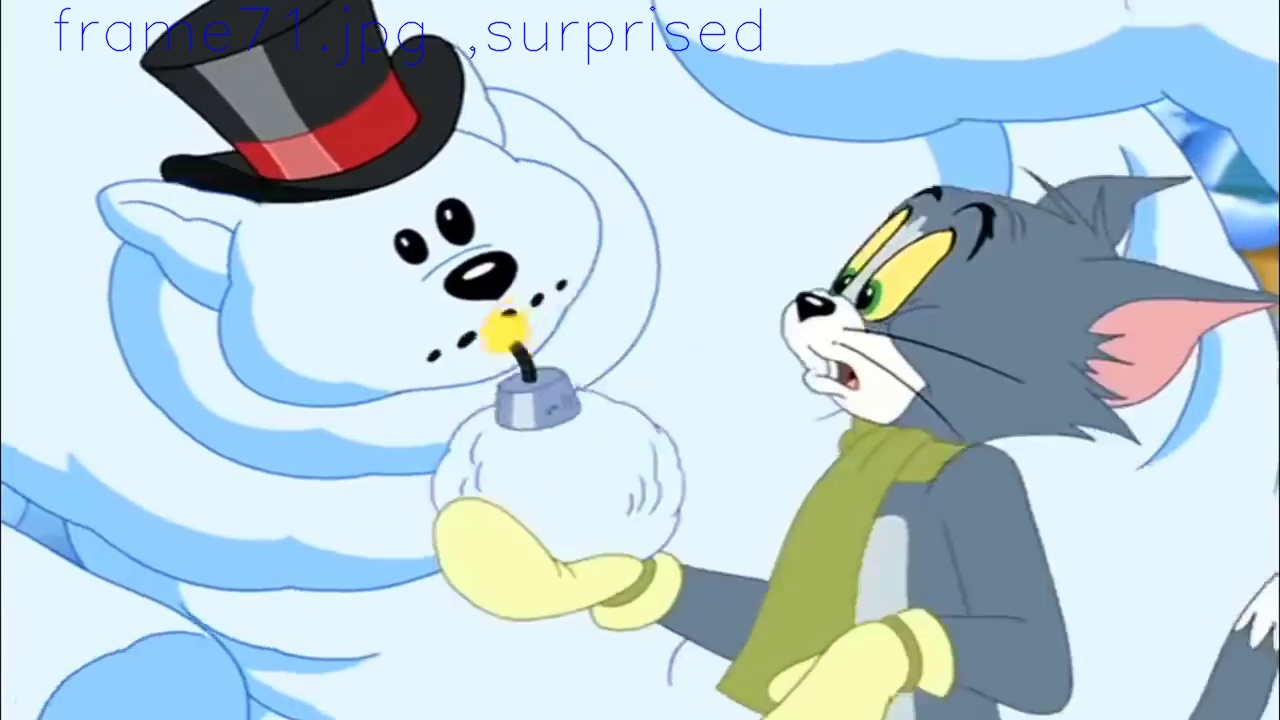surprised: (795, 181, 1017, 422)
